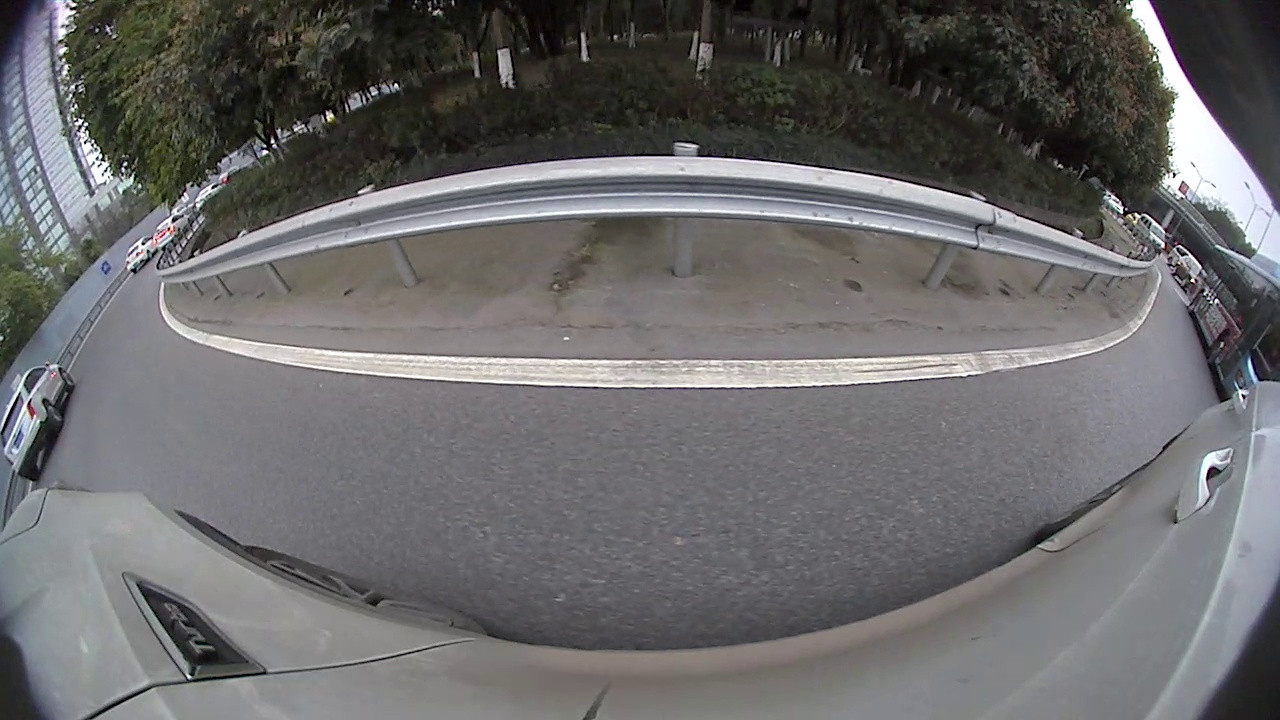bus: (424, 23, 660, 83), (861, 87, 982, 164), (1147, 282, 1196, 351)
car: (923, 158, 1112, 318), (689, 49, 910, 182), (97, 193, 177, 269), (1217, 429, 1254, 486), (1180, 357, 1217, 404), (30, 289, 65, 328), (1123, 278, 1152, 309)
front: (864, 147, 900, 184), (1080, 293, 1111, 322), (120, 238, 139, 258)
rear: (741, 116, 785, 158), (1021, 261, 1064, 299), (103, 251, 117, 272)
